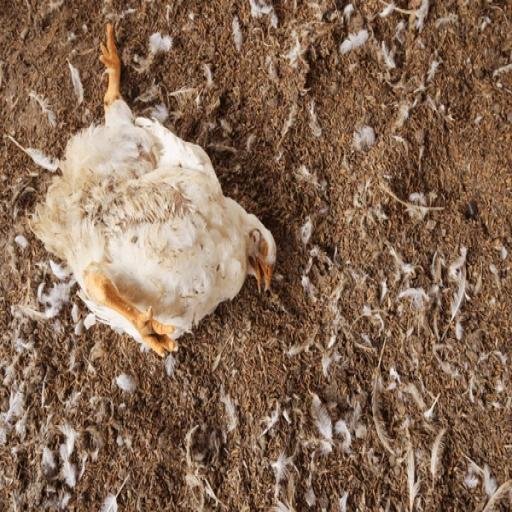disease: (245, 226, 280, 283)
